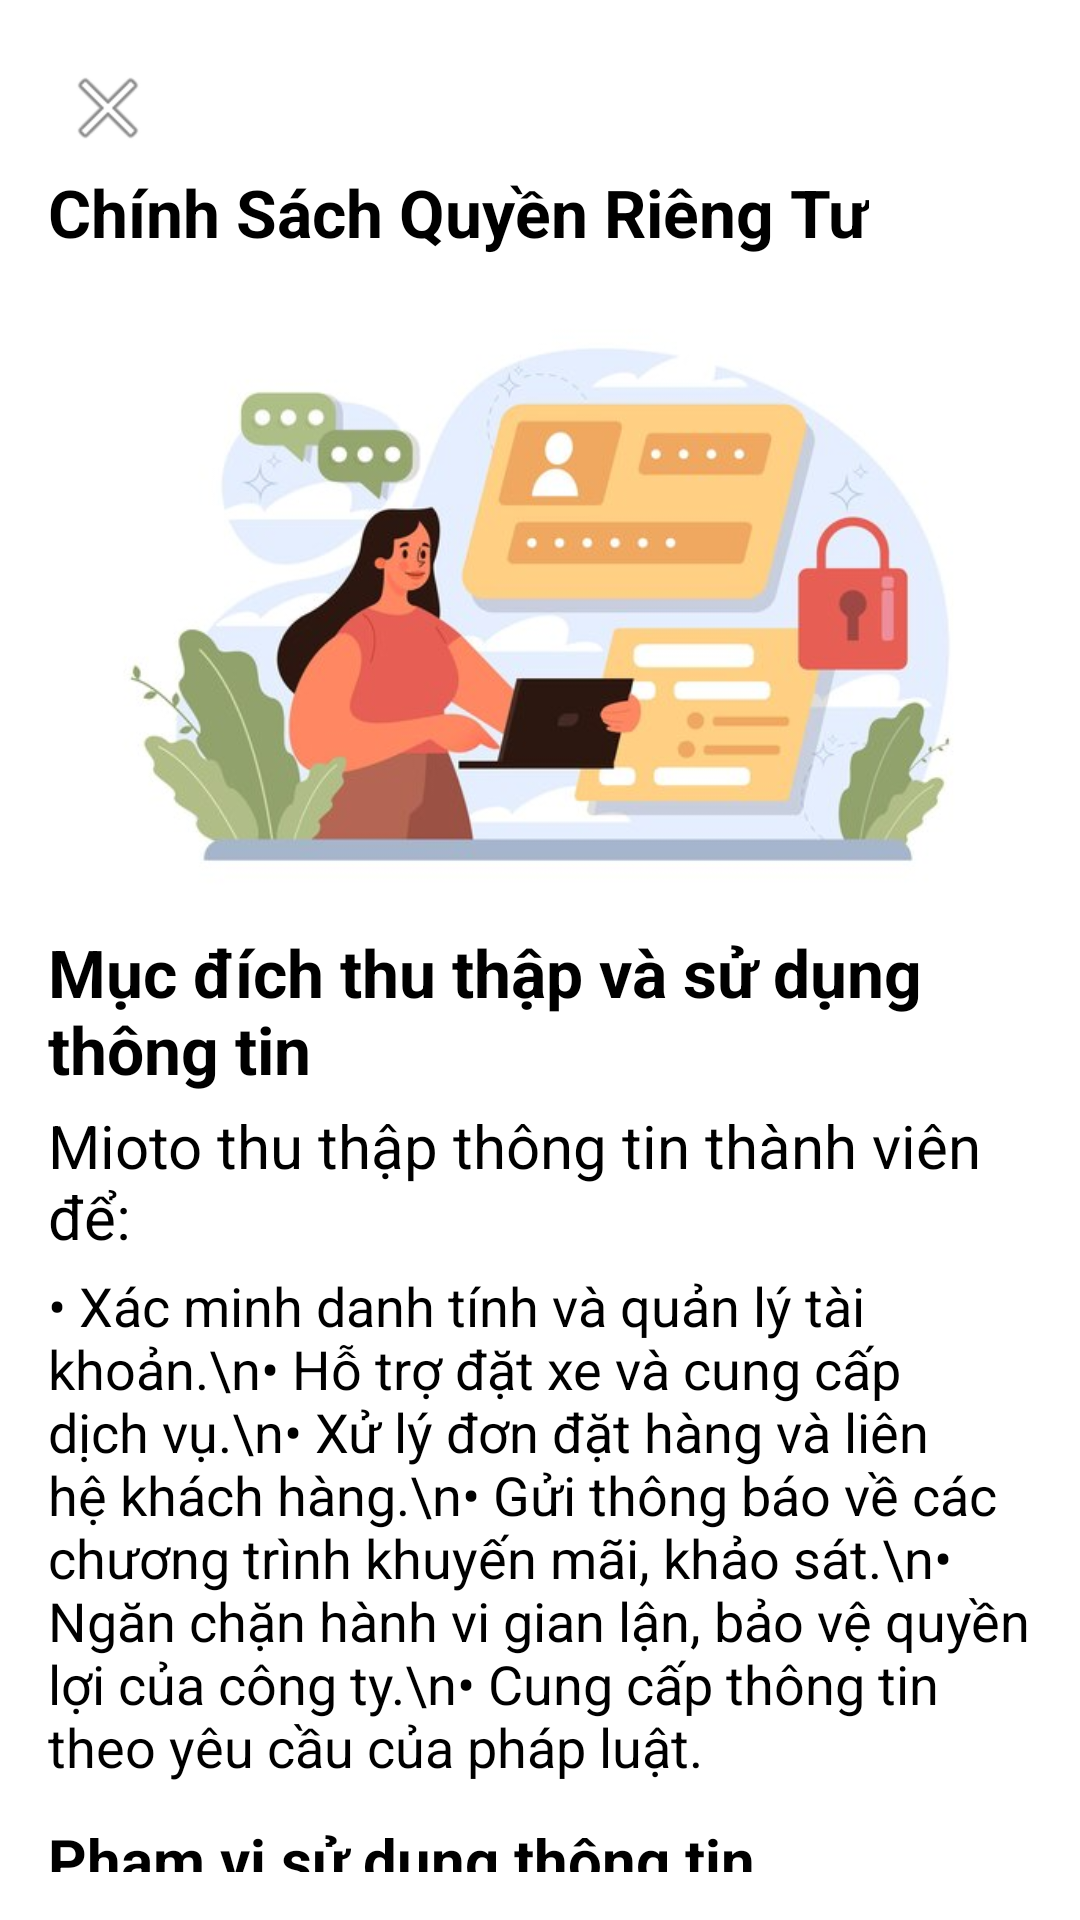

Icon click points for this 1080px x 1920px phone screenshot, format (x,y):
Đóng hướng dẫn: (108,108)
